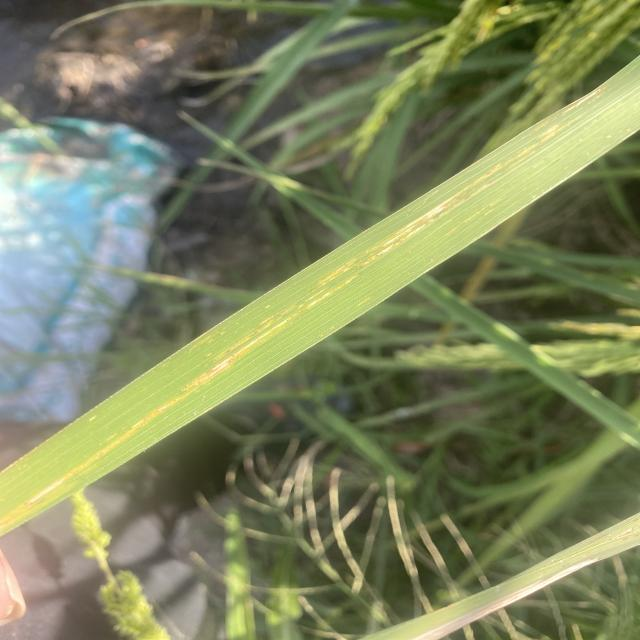Dom soc vi khuan: (21, 431, 135, 506), (192, 313, 299, 384), (360, 211, 451, 267), (381, 206, 446, 247), (132, 394, 189, 430), (305, 276, 357, 308), (225, 322, 275, 354), (205, 362, 230, 379)
